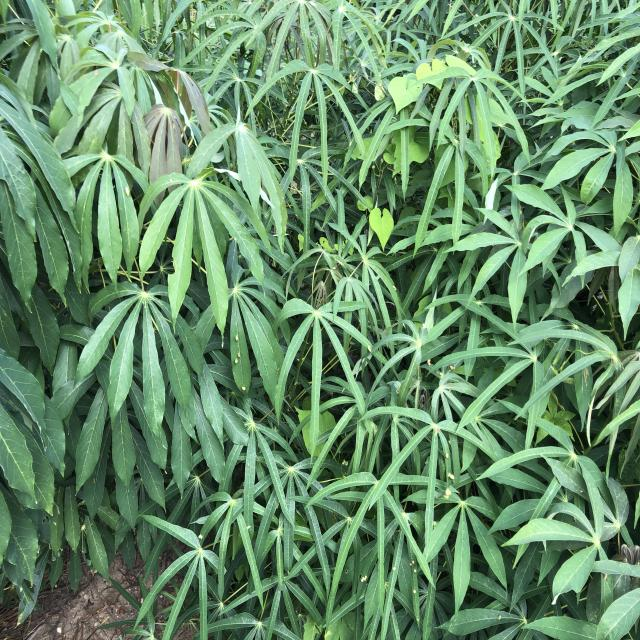Mosca: (441, 466, 458, 504), (356, 565, 378, 589), (228, 332, 239, 369), (336, 454, 358, 472), (410, 552, 422, 578), (445, 358, 458, 382), (69, 516, 86, 533), (440, 446, 454, 462), (120, 183, 133, 200), (384, 559, 397, 575), (238, 382, 251, 397), (406, 586, 422, 598), (48, 519, 58, 530)
